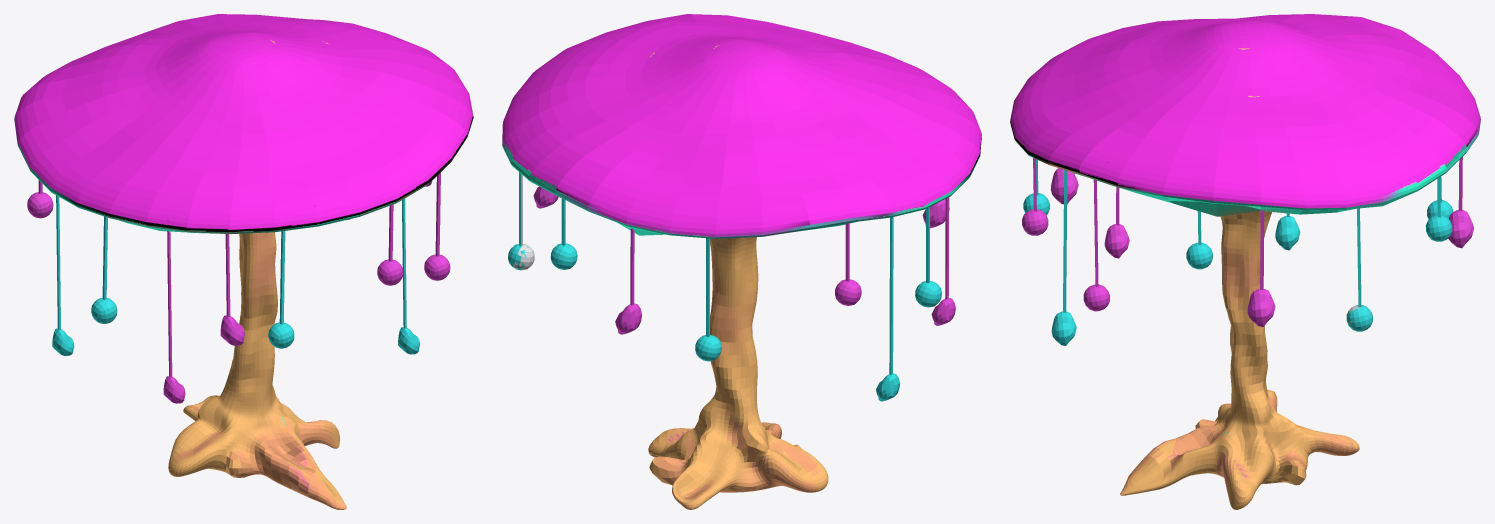
The model's file is tree2.glb.
The picture shows the model from 3 angles, left to right: view 1: azimuth 30°, elevation 25°; view 2: azimuth 150°, elevation 25°; view 3: azimuth 270°, elevation 25°; orthographic projection. The views are drawn at different scales.
Visible parts, largest first — view 1: Cube, Cube.013, Cube.003, Cube.015, Cube.012, Cube.010, Cube.011, Cube.016, Cube.001, Cube.004; view 2: Cube, Cube.015, Cube.014, Cube.007, Cube.013, Cube.011, Cube.004, Cube.006; view 3: Cube, Cube.012, Cube.002, Cube.010, Cube.014, Cube.008, Cube.013, Cube.001, Cube.006, Cube.005, Cube.015, Cube.016.
Part boxes in pixels (<box>): Cube: <box>14,14,473,509</box>; Cube.013: <box>163,231,185,403</box>; Cube.003: <box>268,231,294,348</box>; Cube.015: <box>52,195,74,355</box>; Cube.012: <box>398,198,419,354</box>; Cube.010: <box>424,172,450,280</box>; Cube.011: <box>91,216,117,323</box>; Cube.016: <box>220,234,244,345</box>; Cube.001: <box>377,204,403,285</box>; Cube.004: <box>27,180,53,218</box>; Cube: <box>502,14,981,509</box>; Cube.015: <box>876,217,900,401</box>; Cube.014: <box>615,228,641,334</box>; Cube.007: <box>695,238,721,361</box>; Cube.013: <box>931,197,955,325</box>; Cube.011: <box>915,207,941,307</box>; Cube.004: <box>835,223,861,305</box>; Cube.006: <box>550,198,577,269</box>; Cube: <box>1010,14,1480,509</box>; Cube.012: <box>1051,170,1076,345</box>; Cube.002: <box>1247,210,1275,326</box>; Cube.010: <box>1083,179,1109,311</box>; Cube.014: <box>1448,157,1473,248</box>; Cube.008: <box>1346,208,1372,331</box>; Cube.013: <box>1104,187,1129,258</box>; Cube.001: <box>1022,158,1048,235</box>; Cube.006: <box>1426,177,1452,241</box>; Cube.005: <box>1186,211,1212,269</box>; Cube.015: <box>1275,213,1300,250</box>; Cube.016: <box>1050,168,1078,204</box>.
Size of the model in its own units: 7.58 by 7.82 by 7.51.
Materials: 3 (1 with a texture image).
